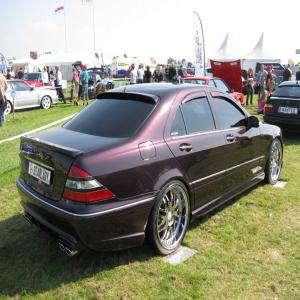Vehicle-registration-plate: (29, 162, 52, 188), (280, 107, 299, 114)
